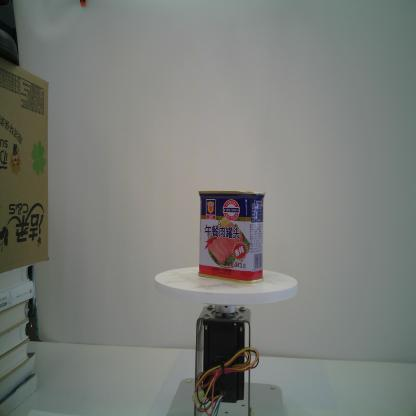Canned Food: (198, 190, 266, 284)
